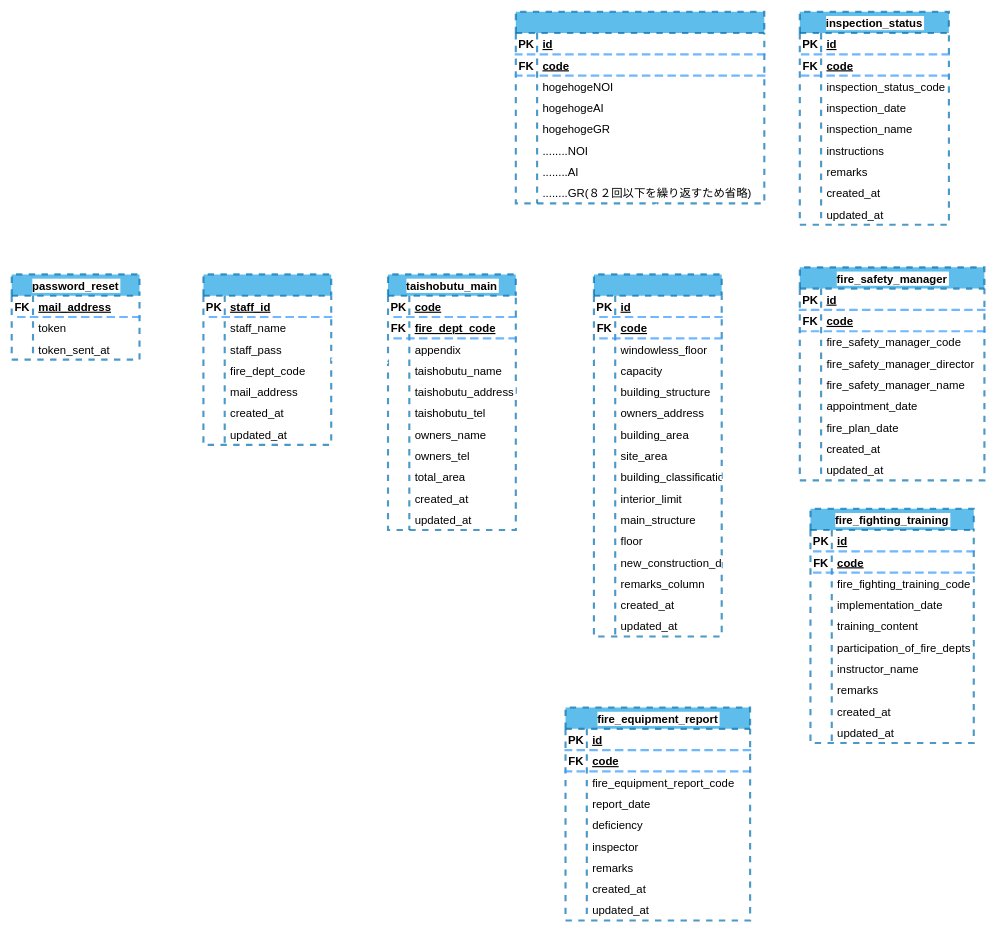
Some shapes in this 996 by 932 pixel diagram are drawn without their labels. The shapes that lost their labels are listed below. From the top down, each one's box as (x1, y1, x2, y2) in pixels, then its label:
(514, 10, 765, 204): firefighting_equipment_list
(202, 273, 332, 446): firedept_staff
(592, 273, 722, 637): taishobutu_datail
